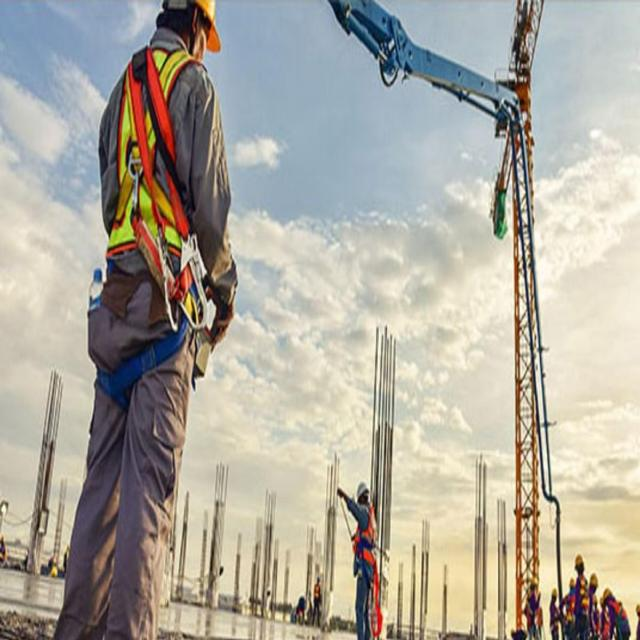Reflective-Jacket: (96, 35, 230, 329), (349, 502, 381, 583)
Safety-Helmet: (153, 1, 228, 58), (353, 475, 372, 504), (574, 550, 585, 572), (590, 570, 599, 589), (528, 575, 539, 590), (568, 573, 577, 590), (550, 584, 558, 599)
